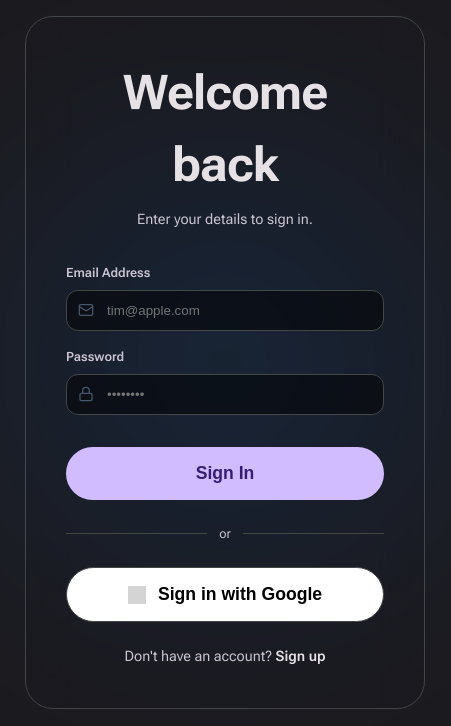
Test: Login › shows loading state during login
Step 1. Type "test@test.com" into the field with placeholder "tim@apple.com" → (225, 310), box [66, 290, 384, 331]
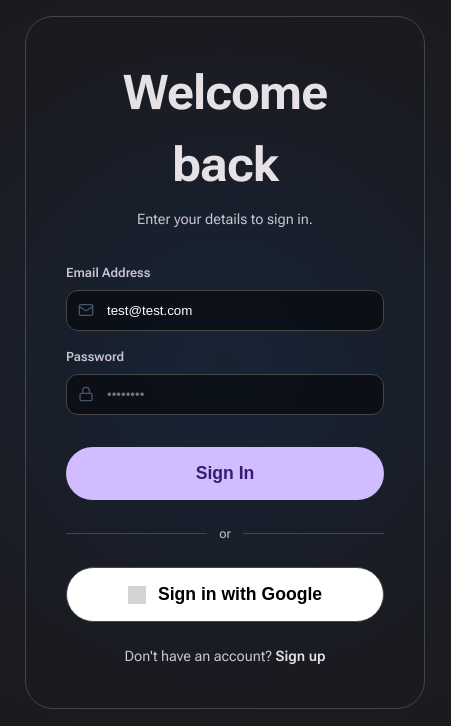
Step 2. Type "password123" into the password field with placeholder "••••••••" → (225, 394), box [66, 374, 384, 415]
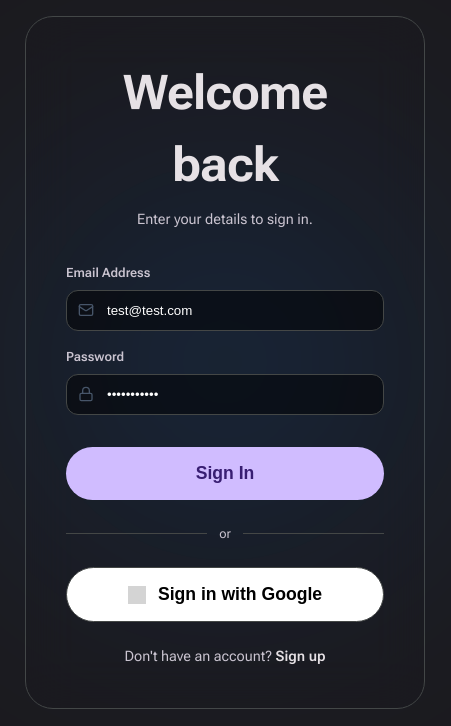
Step 3. Click the button "Sign In" → (225, 474), box [66, 447, 384, 500]
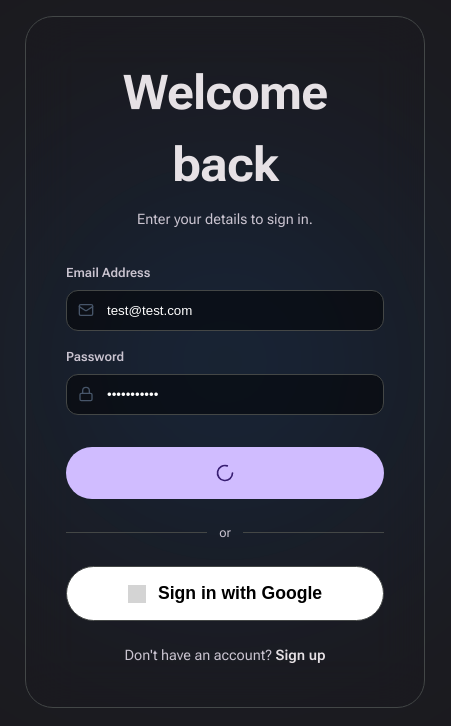
Expected: the 1st button is disabled, [66, 447, 384, 499]
